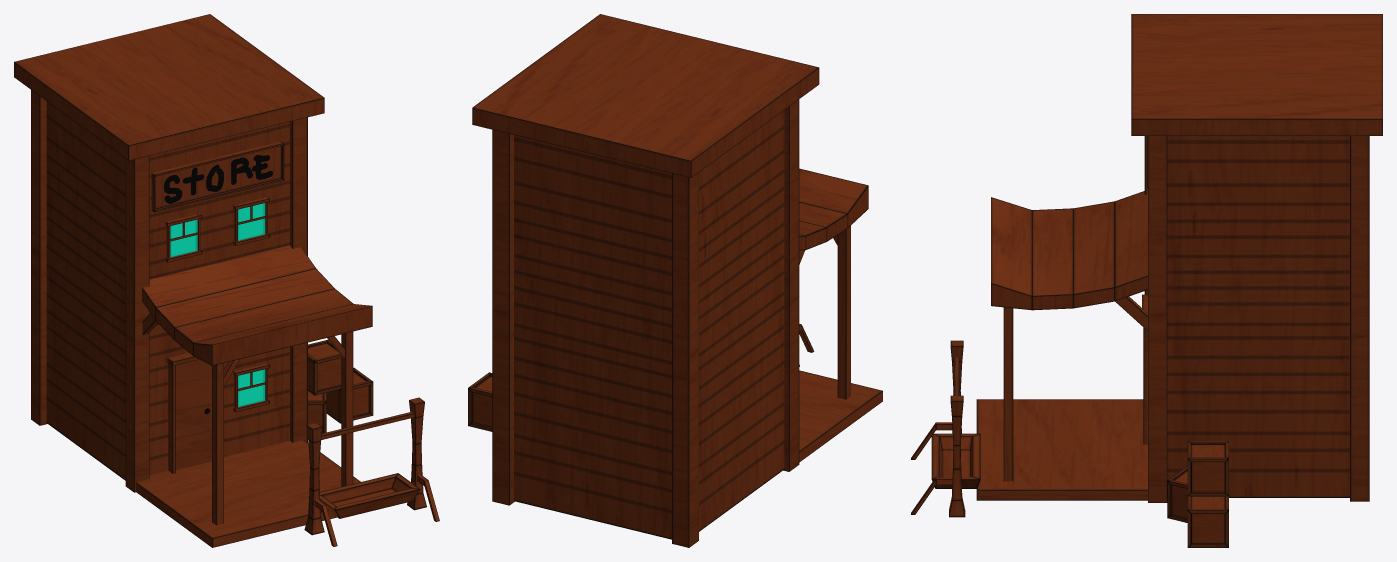
Rendered from 잡화점2.fbx.
3 renders of one model, left to right at view 1: azimuth 30°, elevation 25°; view 2: azimuth 150°, elevation 25°; view 3: azimuth 270°, elevation 25°, orthographic. The views are drawn at different scales.
Parts seen in each view (by area): view 1: Shop2; view 2: Shop2; view 3: Shop2.
Boxes of the visible parts, x1,y1,x2,y2 form: Shop2: (14, 14, 439, 547); Shop2: (468, 14, 882, 547); Shop2: (911, 14, 1382, 547).
Bounding box in the file's own units: 165 × 207 × 228.
